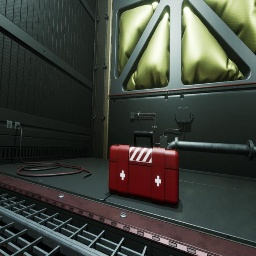FirstAidBox ,: (109, 131, 179, 207)
